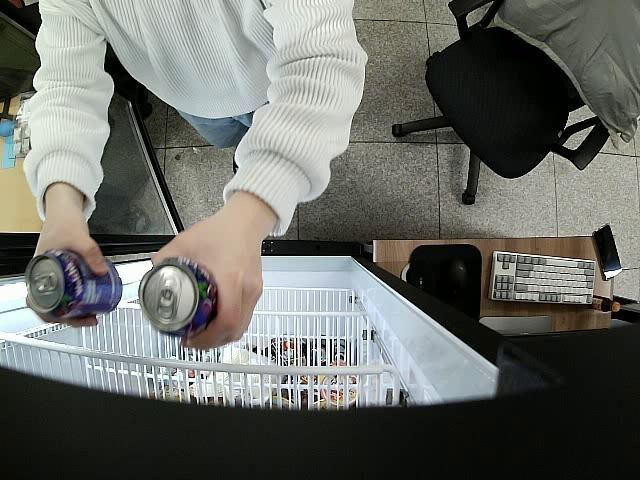14_welchsGrape: (26, 250, 123, 322), (138, 259, 218, 340)
